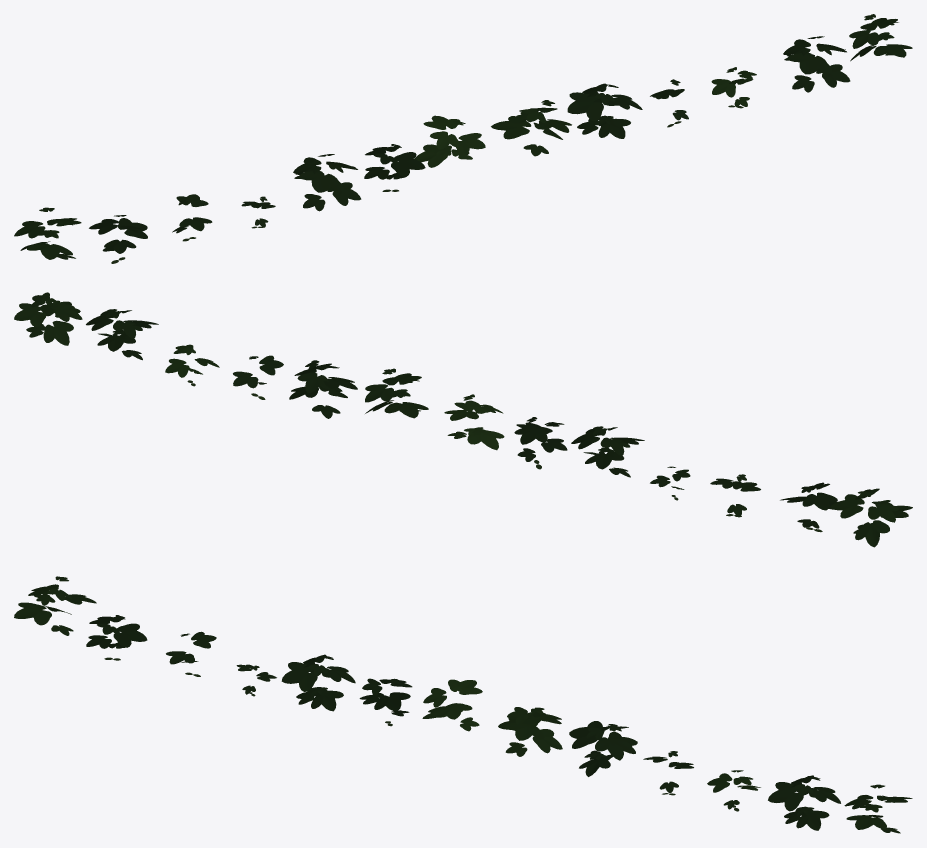
Rendered from ROW_18_SEG5_foliage.dae.
The picture shows the model from 3 angles, top to bottom: view 1: azimuth 30°, elevation 25°; view 2: azimuth 150°, elevation 25°; view 3: azimuth 330°, elevation 25°; orthographic projection.
Parts seen in each view (by area): view 1: ROW_18_SEG5_foliage; view 2: ROW_18_SEG5_foliage; view 3: ROW_18_SEG5_foliage.
Part boxes in pixels (<box>): ROW_18_SEG5_foliage: <box>14,14,912,263</box>; ROW_18_SEG5_foliage: <box>14,292,912,547</box>; ROW_18_SEG5_foliage: <box>14,576,912,833</box>.
Bounding box in the file's own units: 3.9 × 0.3411 × 0.2591.
